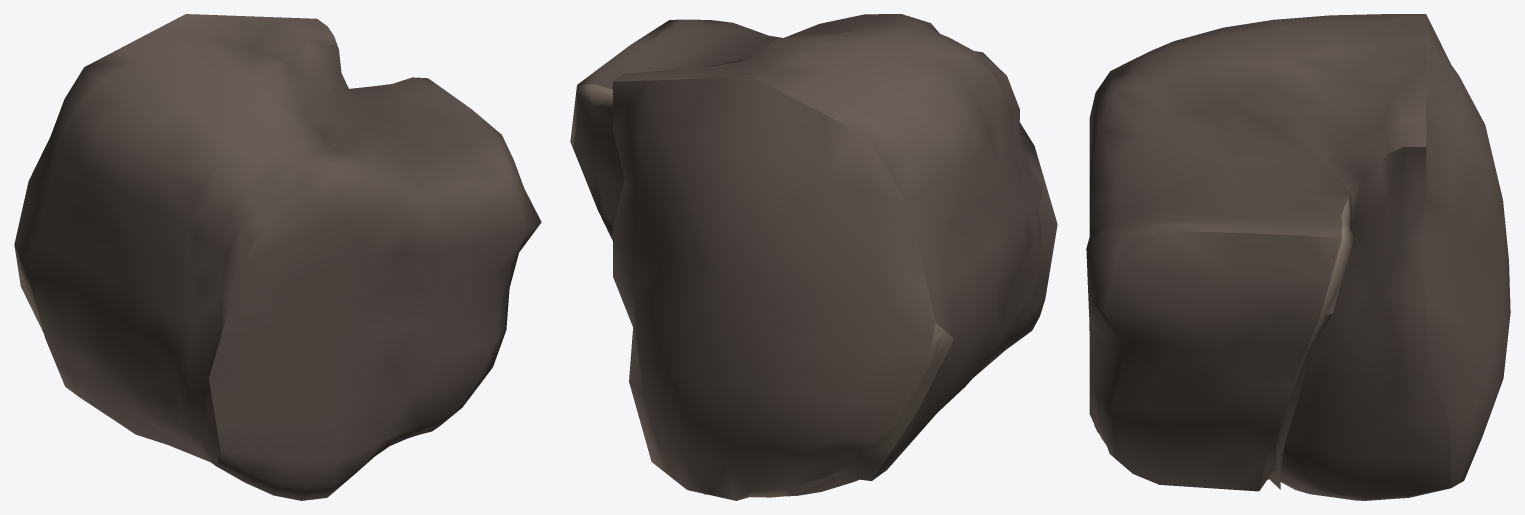
Rendered from SharpRock.007.glb.
The picture shows the model from 3 angles, left to right: view 1: azimuth 30°, elevation 25°; view 2: azimuth 150°, elevation 25°; view 3: azimuth 270°, elevation 25°; orthographic projection. The views are drawn at different scales.
Parts seen in each view (by area): view 1: SharpRock.007; view 2: SharpRock.007; view 3: SharpRock.007.
Boxes of the visible parts, <box> form: SharpRock.007: <box>14,14,541,500</box>; SharpRock.007: <box>570,14,1057,500</box>; SharpRock.007: <box>1086,14,1510,500</box>.
Size of the model in its own units: 339 by 341 by 291.
